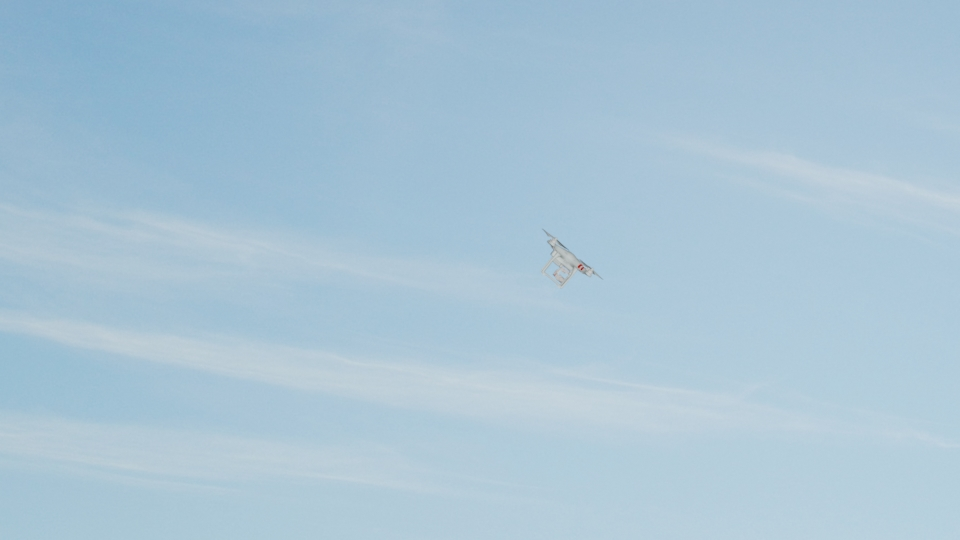drone: (543, 228, 605, 285)
